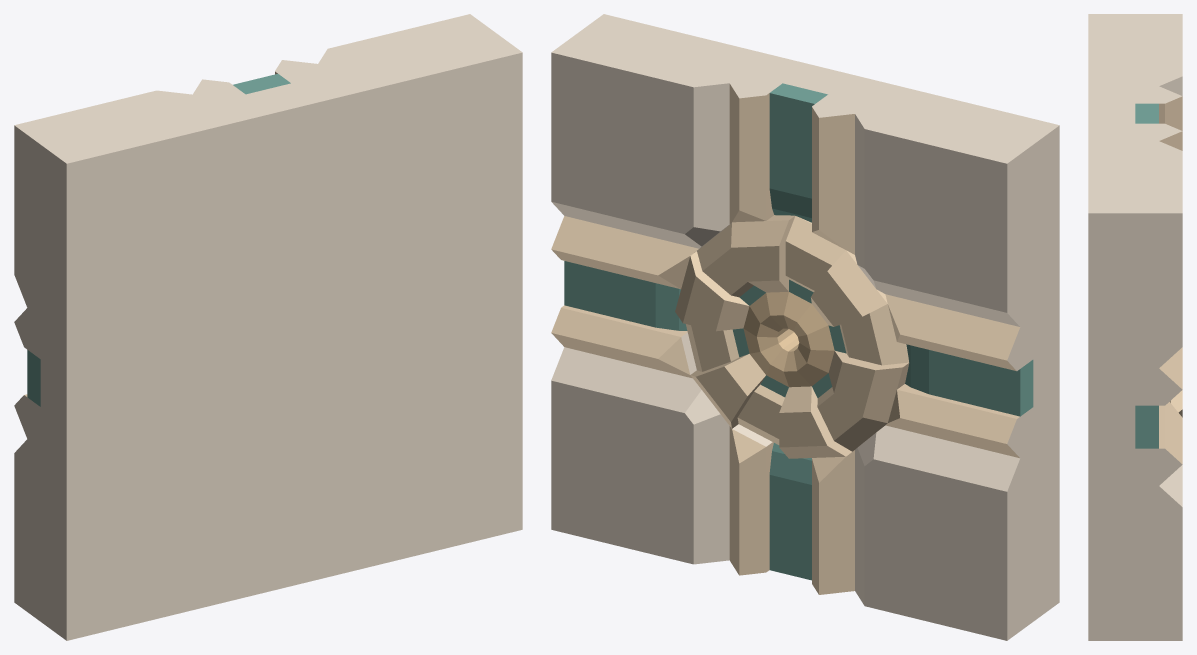
The model's file is Puzzle_Wall_Conduit_Emitter_Cross.glb.
3 views of the same model, side by side, from view 1: azimuth 30°, elevation 25°; view 2: azimuth 150°, elevation 25°; view 3: azimuth 270°, elevation 25° (orthographic). The views are drawn at different scales.
Parts seen in each view (by area): view 1: Puzzle_Wall_Conduit_Emitter_Cross; view 2: Puzzle_Wall_Conduit_Emitter_Cross; view 3: Puzzle_Wall_Conduit_Emitter_Cross.
Boxes of the visible parts, x1,y1,x2,y2 form: Puzzle_Wall_Conduit_Emitter_Cross: (14, 14, 522, 640); Puzzle_Wall_Conduit_Emitter_Cross: (551, 14, 1059, 640); Puzzle_Wall_Conduit_Emitter_Cross: (1088, 14, 1182, 640).
Bounding box in the file's own units: 1 × 1 × 0.2.
